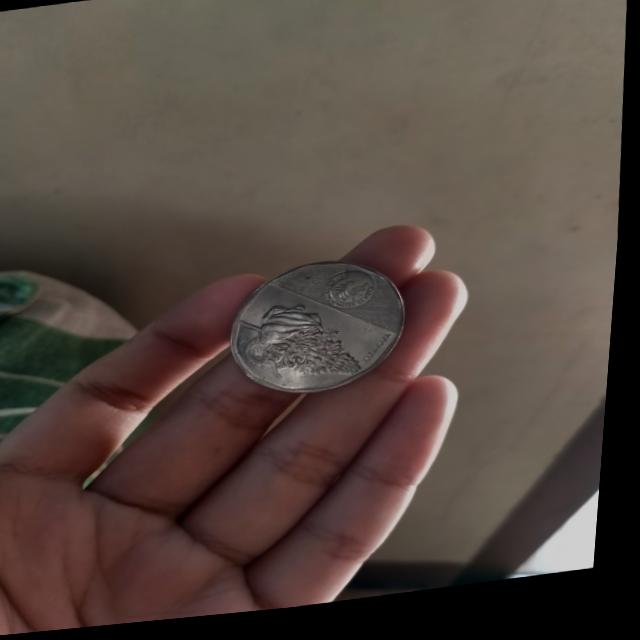10_New_Back: (232, 299, 375, 402)
